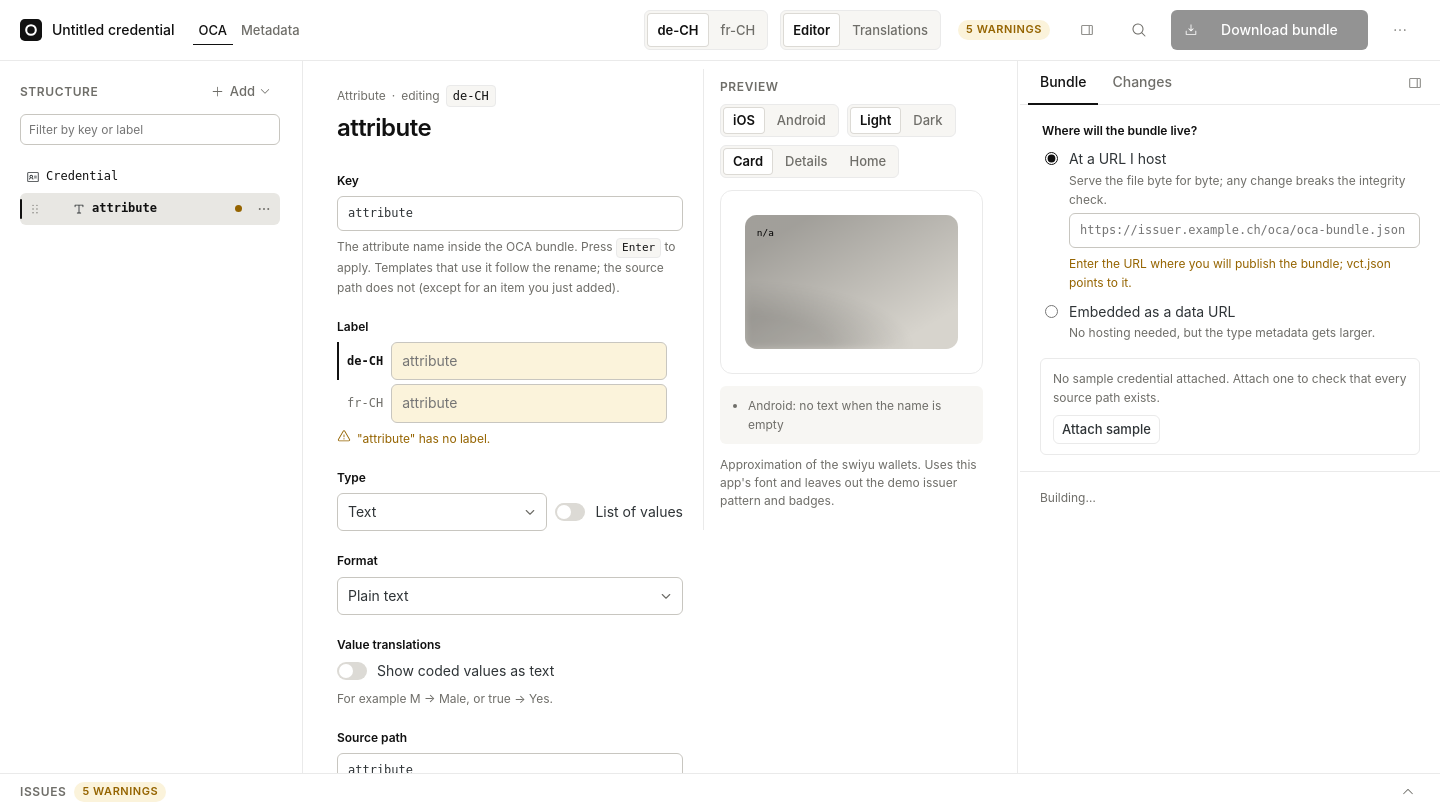
I14Y suggestions › never sends what is typed to I14Y
Step 1. Type "Geschlecht" into the dropdown labelled "Label" → [529, 361], box [391,342,667,380]
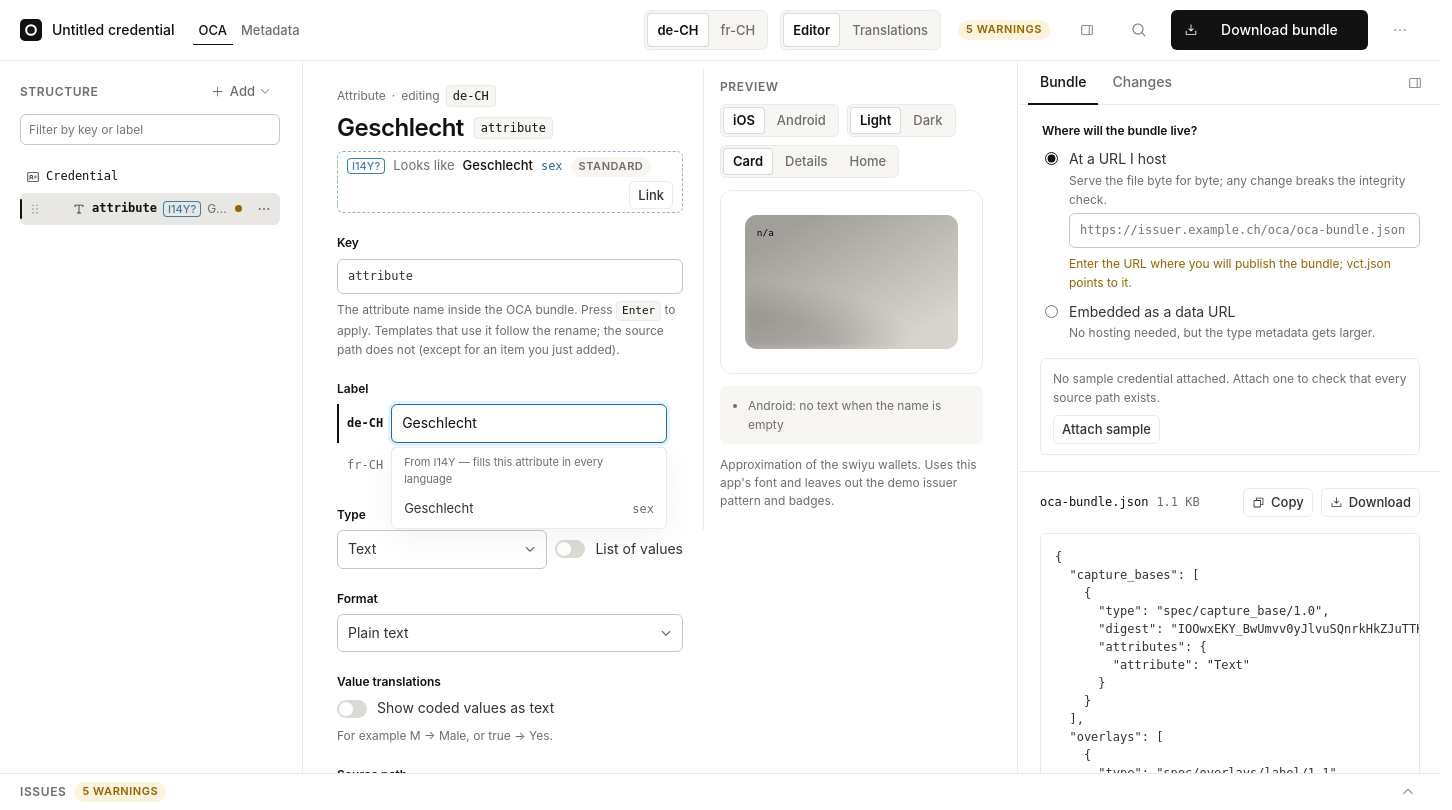
Expected: the option "Geschlecht sex" is shown, [404,500,654,516]
